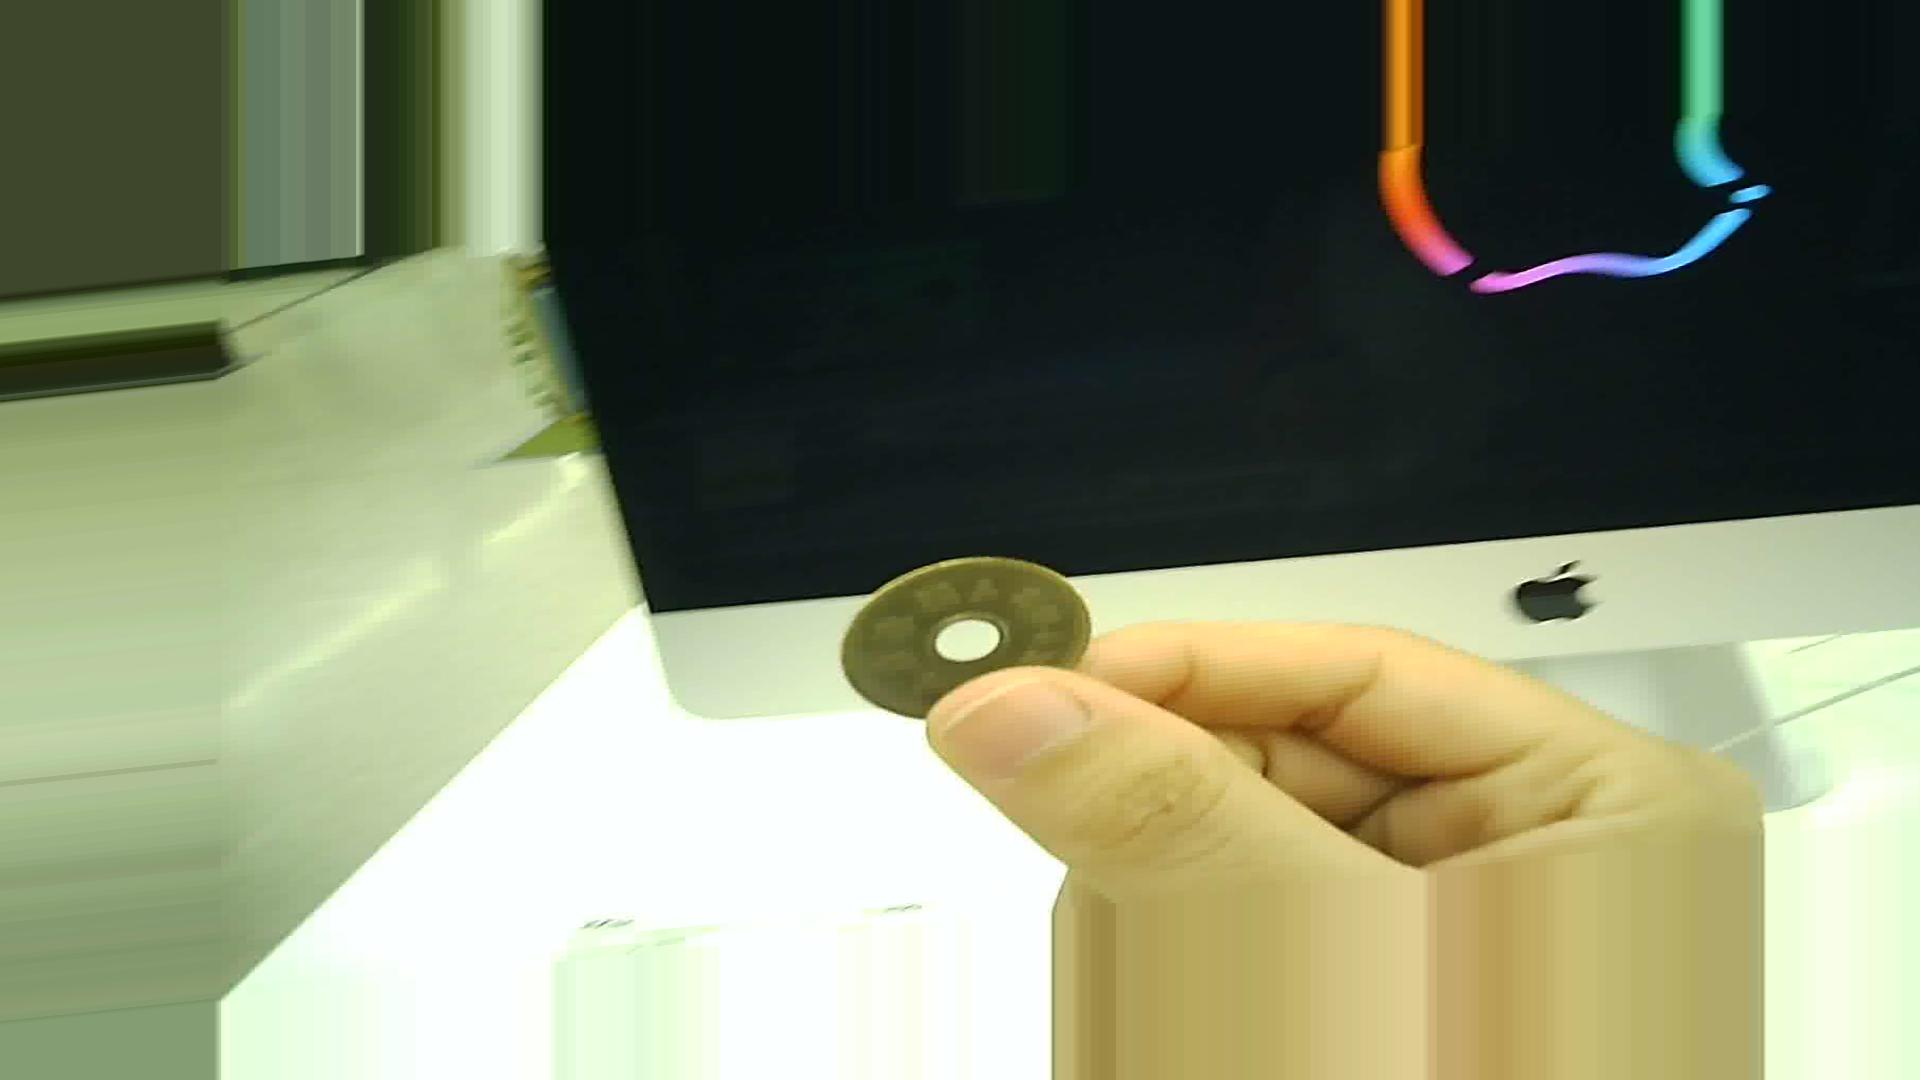5 Yen: (824, 558, 1112, 736)
